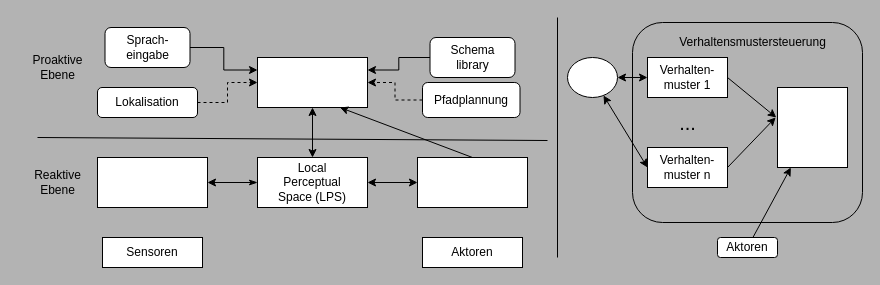
This 880x285 diagram has some shape labels left out. The centre of each missing label's shape, as x and y in pixels:
LPS: point 592,77
Procedural Reasoning System (PRS): point 312,82
Resolver: point 812,127
Sensordaten Interpretation: point 152,182
Verhaltens- muster- steuerung: point 472,182
